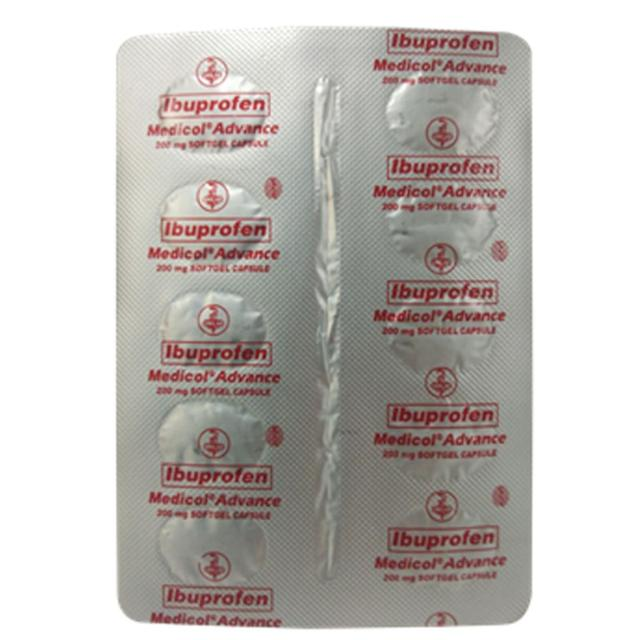blister: (104, 13, 550, 635)
